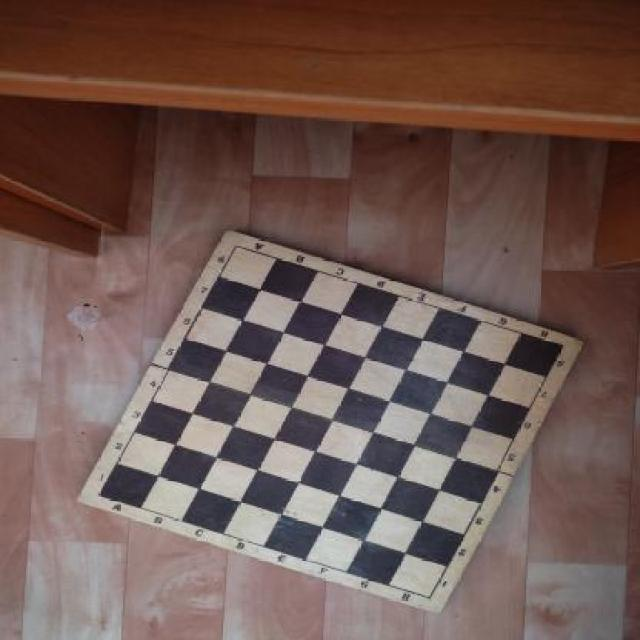chess-table-corners: (72, 476, 126, 513), (218, 232, 258, 263), (543, 328, 580, 361), (410, 585, 444, 610)
